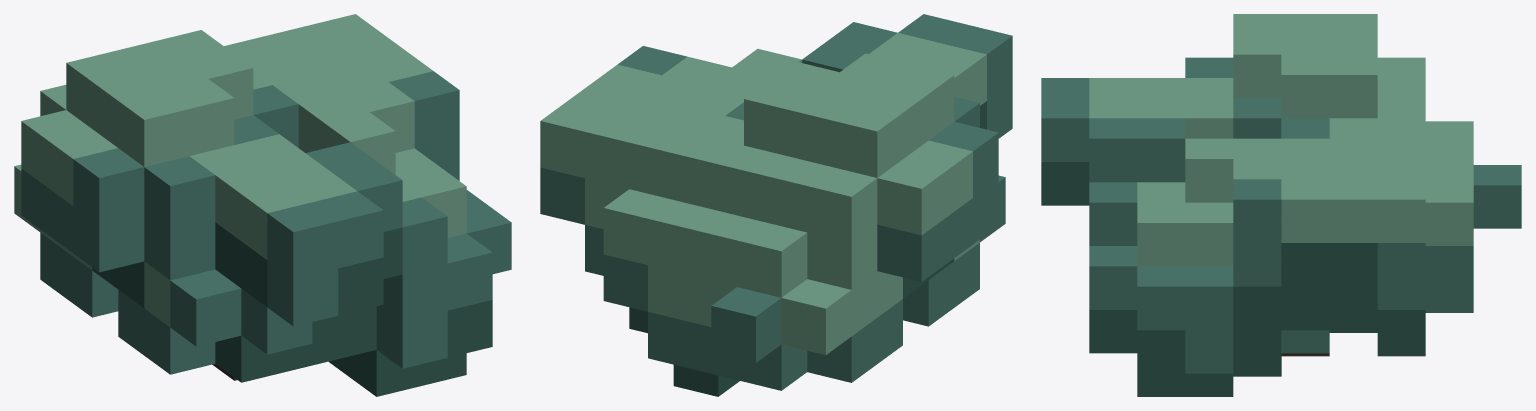
File: dense_bush_v2_far.glb
3 views of the same model, side by side, from view 1: azimuth 30°, elevation 25°; view 2: azimuth 150°, elevation 25°; view 3: azimuth 270°, elevation 25° (orthographic). The views are drawn at different scales.
Parts seen in each view (by area): view 1: dense_bush_v2_far; view 2: dense_bush_v2_far; view 3: dense_bush_v2_far.
Part boxes in pixels (left/top/right/bottom): dense_bush_v2_far: left=14, top=14, right=511, bottom=396; dense_bush_v2_far: left=540, top=14, right=1012, bottom=396; dense_bush_v2_far: left=1041, top=14, right=1521, bottom=396.
Bounding box in the file's own units: 2 × 1.5 × 2.5.
Materials: 1 (1 with a texture image).
